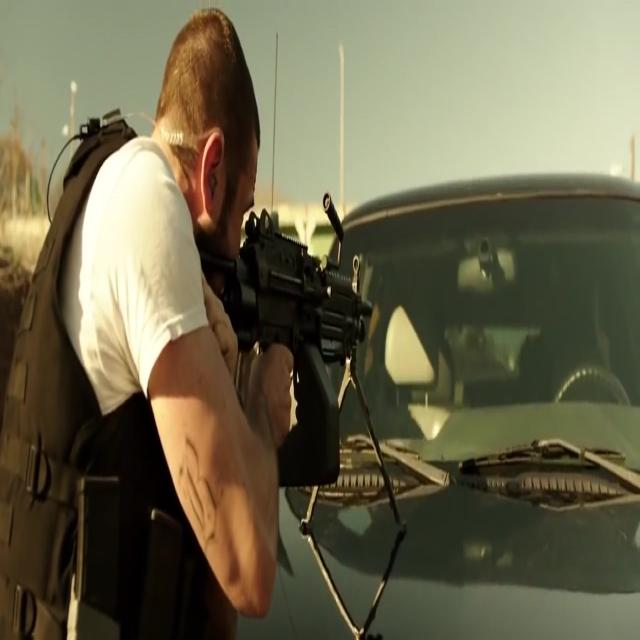Weapon: (209, 171, 375, 487)
